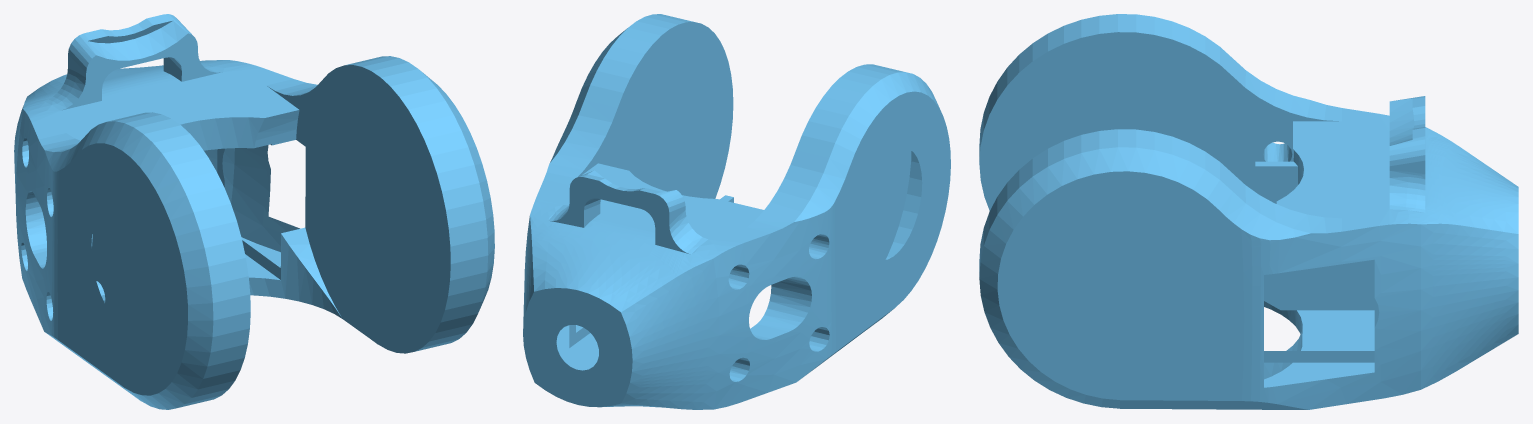
File: niryoone_visible_3_vis_3.dae
3 views of the same model, side by side, from view 1: azimuth 30°, elevation 25°; view 2: azimuth 150°, elevation 25°; view 3: azimuth 270°, elevation 25° (orthographic). The views are drawn at different scales.
Visible parts, largest first — view 1: Node_0000016F5E36BC40; view 2: Node_0000016F5E36BC40; view 3: Node_0000016F5E36BC40.
Part boxes in pixels (x1,y1,x2,y2): Node_0000016F5E36BC40: (14,14,494,409); Node_0000016F5E36BC40: (523,14,950,409); Node_0000016F5E36BC40: (979,14,1518,409).
Bounding box in the file's own units: 0.0964 × 0.0808 × 0.149.
